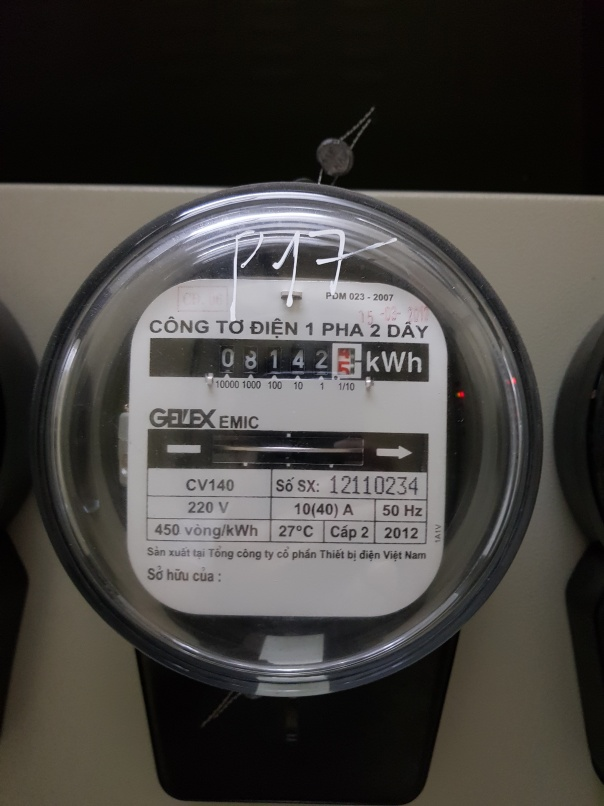counter: (150, 339, 431, 382)
electricity_meter: (32, 182, 545, 700)
